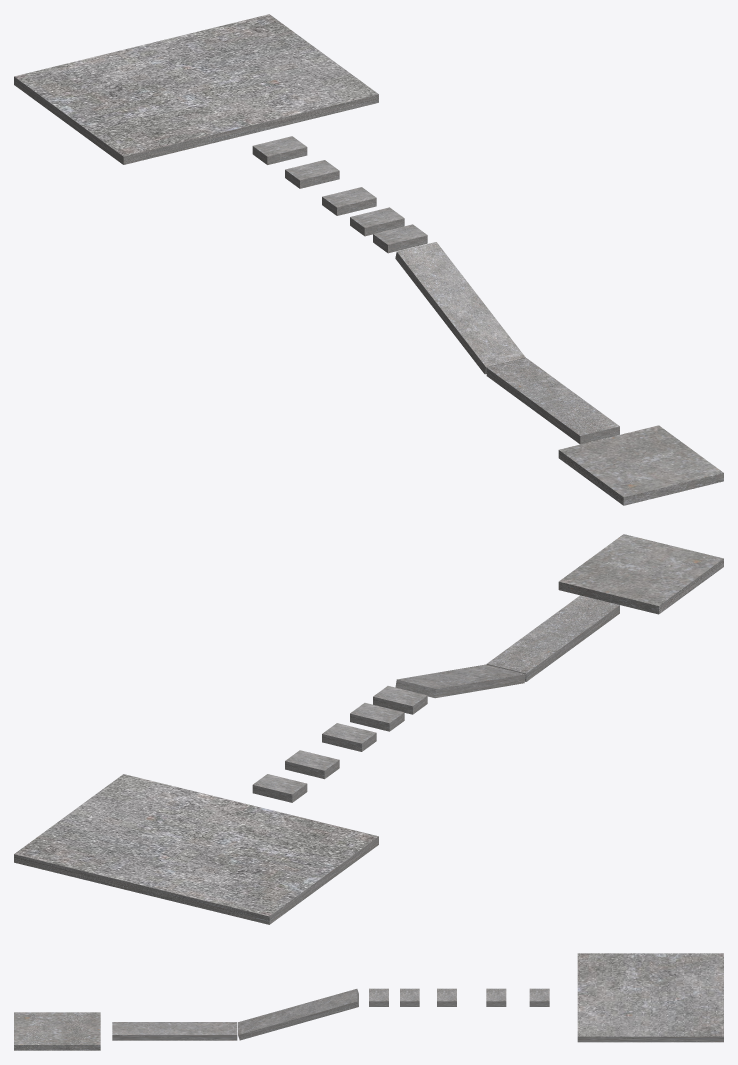
Rendered from mapa_1.obj.
3 renders of one model, top to bottom at view 1: azimuth 30°, elevation 25°; view 2: azimuth 150°, elevation 25°; view 3: azimuth 270°, elevation 25°, orthographic. The views are drawn at different scales.
Visible parts, largest first — view 1: Cube.008_Cube.009, Cube_Cube.001, Cube.002_Cube.003, Cube.001_Cube.002, Cube.007_Cube.008, Cube.003_Cube.004, Cube.005_Cube.006, Cube.006_Cube.007, Cube.004_Cube.005; view 2: Cube.008_Cube.009, Cube_Cube.001, Cube.001_Cube.002, Cube.002_Cube.003, Cube.007_Cube.008, Cube.005_Cube.006, Cube.004_Cube.005, Cube.006_Cube.007, Cube.003_Cube.004; view 3: Cube.008_Cube.009, Cube_Cube.001, Cube.001_Cube.002, Cube.002_Cube.003, Cube.006_Cube.007, Cube.007_Cube.008, Cube.003_Cube.004, Cube.004_Cube.005, Cube.005_Cube.006.
Boxes of the visible parts, x1=… form: Cube.008_Cube.009: x1=14, y1=14, x2=378, y2=164; Cube_Cube.001: x1=558, y1=425, x2=723, y2=505; Cube.002_Cube.003: x1=395, y1=242, x2=525, y2=374; Cube.001_Cube.002: x1=486, y1=358, x2=619, y2=444; Cube.007_Cube.008: x1=252, y1=136, x2=307, y2=164; Cube.003_Cube.004: x1=373, y1=224, x2=427, y2=253; Cube.005_Cube.006: x1=322, y1=187, x2=376, y2=215; Cube.006_Cube.007: x1=285, y1=160, x2=339, y2=188; Cube.004_Cube.005: x1=350, y1=207, x2=404, y2=236; Cube.008_Cube.009: x1=14, y1=774, x2=378, y2=924; Cube_Cube.001: x1=558, y1=534, x2=723, y2=614; Cube.001_Cube.002: x1=486, y1=595, x2=619, y2=681; Cube.002_Cube.003: x1=395, y1=664, x2=525, y2=698; Cube.007_Cube.008: x1=252, y1=774, x2=307, y2=802; Cube.005_Cube.006: x1=322, y1=723, x2=376, y2=751; Cube.004_Cube.005: x1=350, y1=703, x2=404, y2=731; Cube.006_Cube.007: x1=285, y1=750, x2=339, y2=779; Cube.003_Cube.004: x1=373, y1=686, x2=427, y2=714; Cube.008_Cube.009: x1=577, y1=953, x2=723, y2=1042; Cube_Cube.001: x1=14, y1=1012, x2=100, y2=1050; Cube.001_Cube.002: x1=112, y1=1022, x2=237, y2=1040; Cube.002_Cube.003: x1=238, y1=989, x2=358, y2=1040; Cube.006_Cube.007: x1=486, y1=988, x2=506, y2=1006; Cube.007_Cube.008: x1=529, y1=988, x2=549, y2=1006; Cube.003_Cube.004: x1=369, y1=988, x2=388, y2=1006; Cube.004_Cube.005: x1=400, y1=988, x2=419, y2=1006; Cube.005_Cube.006: x1=437, y1=988, x2=456, y2=1006.
Size of the model in its own units: 31.84 by 7.01 by 115.
